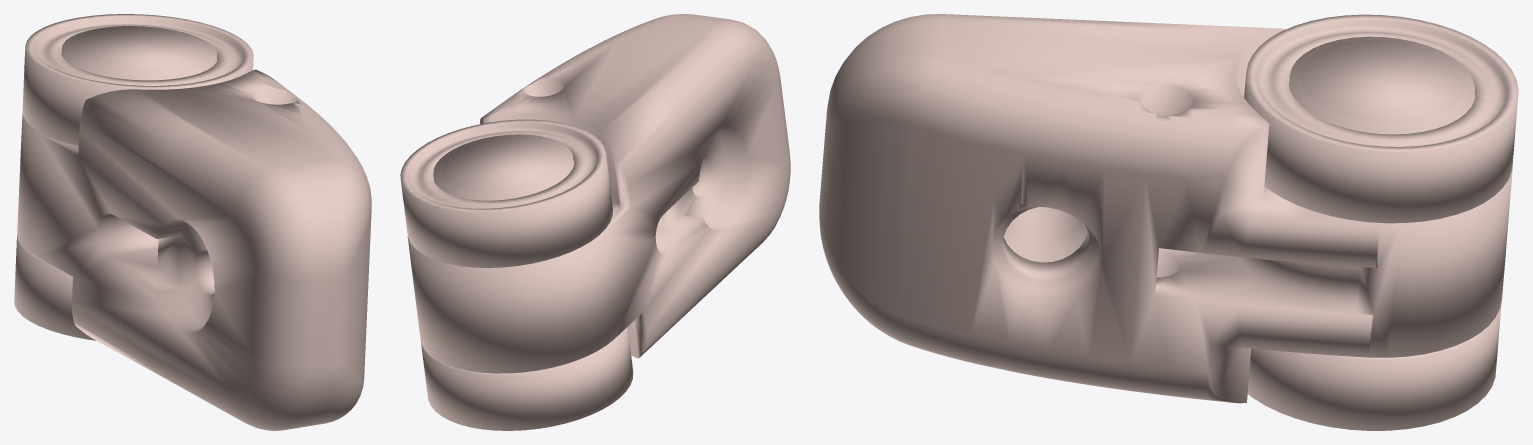
The model's file is index_tip_1.obj.
3 renders of one model, left to right at view 1: azimuth 30°, elevation 25°; view 2: azimuth 150°, elevation 25°; view 3: azimuth 270°, elevation 25°, orthographic. The views are drawn at different scales.
Bounding box in the file's own units: 10.99 × 13.72 × 25.58.
